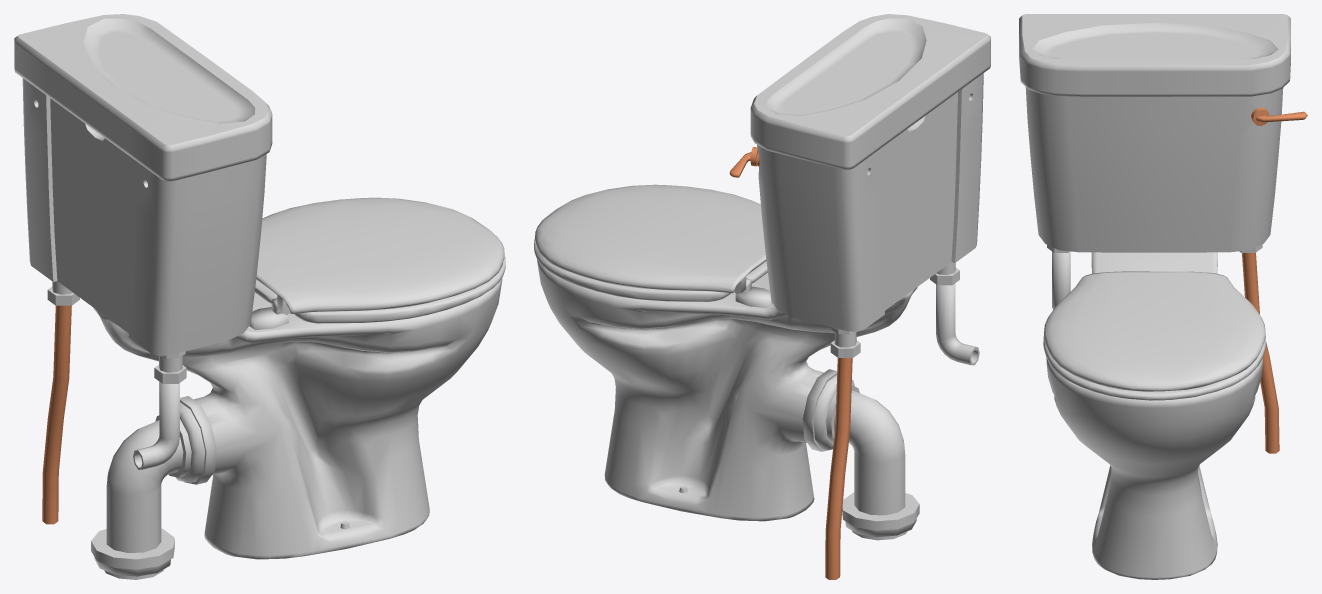
File: toilette.fbx
3 views of the same model, side by side, from view 1: azimuth 30°, elevation 25°; view 2: azimuth 150°, elevation 25°; view 3: azimuth 270°, elevation 25° (orthographic). The views are drawn at different scales.
Parts seen in each view (by area): view 1: Toilette; view 2: Toilette; view 3: Toilette.
Part boxes in pixels (left/top/right/bottom): Toilette: left=14, top=14, right=505, bottom=579; Toilette: left=534, top=14, right=990, bottom=579; Toilette: left=1019, top=14, right=1307, bottom=579.
Bounding box in the file's own units: 67.8 × 78.05 × 47.91.
